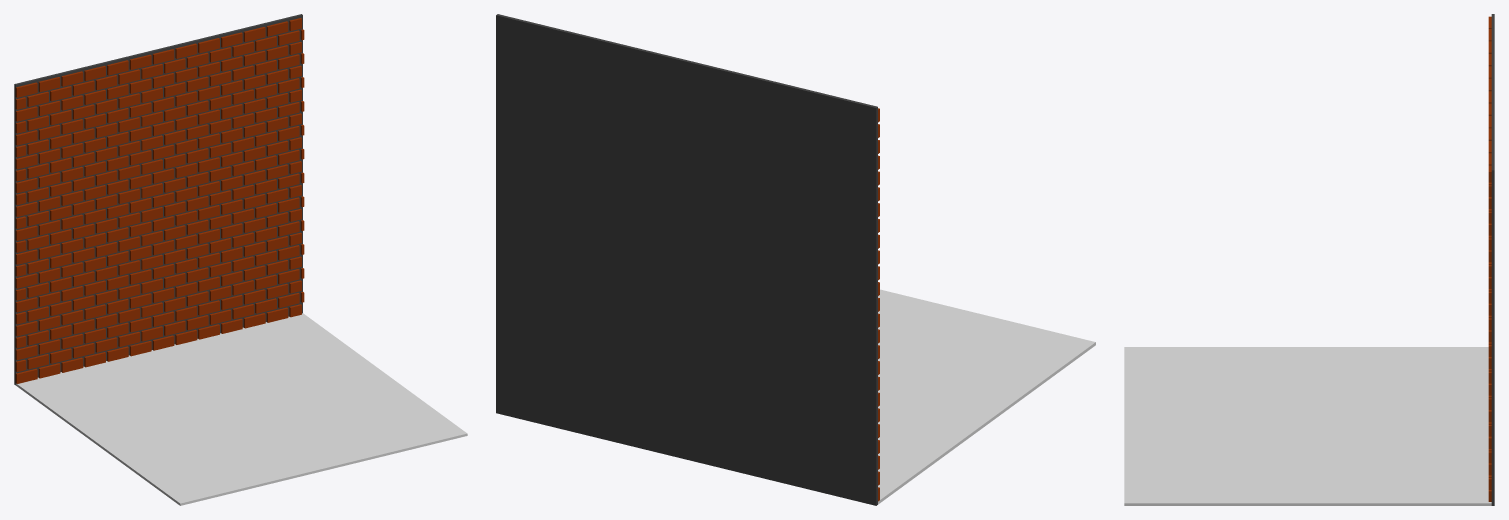
The model's file is стена-13.obj.
The picture shows the model from 3 angles, left to right: view 1: azimuth 30°, elevation 25°; view 2: azimuth 150°, elevation 25°; view 3: azimuth 270°, elevation 25°; orthographic projection. The views are drawn at different scales.
Size of the model in its own units: 12.6 by 12.6 by 12.6.
